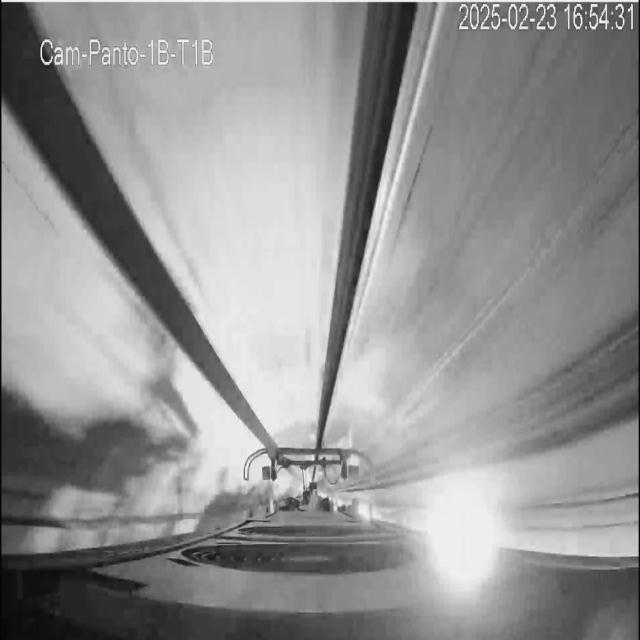Camera Stamp: (35, 27, 220, 73)
Date Stamp: (457, 3, 634, 33)
No - Spark: (163, 459, 414, 586)
Sparks: (314, 425, 373, 489), (243, 447, 275, 481)
